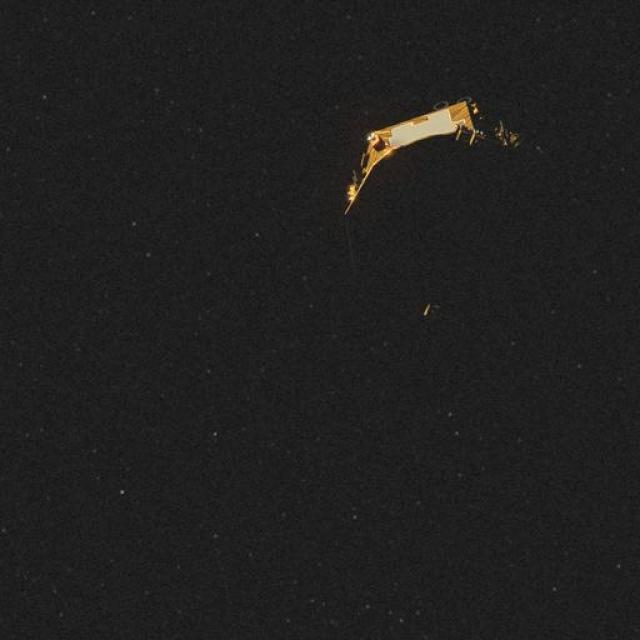lisa_pathfinder: (308, 94, 594, 339)
